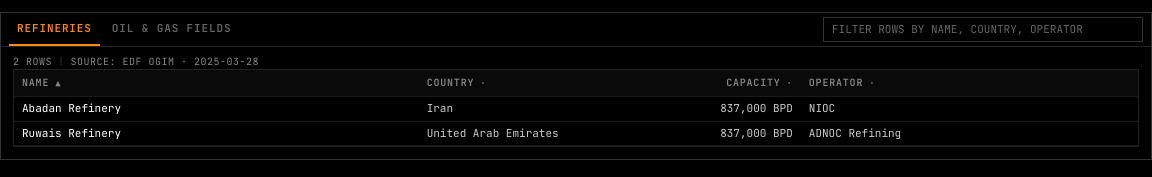
Test case: TablePage › explains an empty result instead of showing a bare header
This screenshot has width=1152, height=177.
Type "zzz" into the search field labelled "FILTER ROWS".
click(983, 30); type("zzz")  # box [823,17,1143,42]
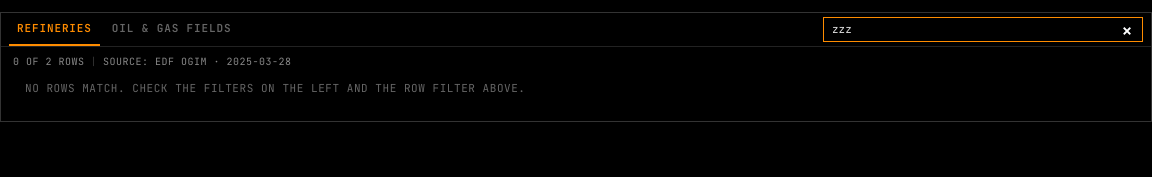
Check: the text "NO ROWS MATCH" is shown, box [25,81,526,95]
Check: the table is gone
